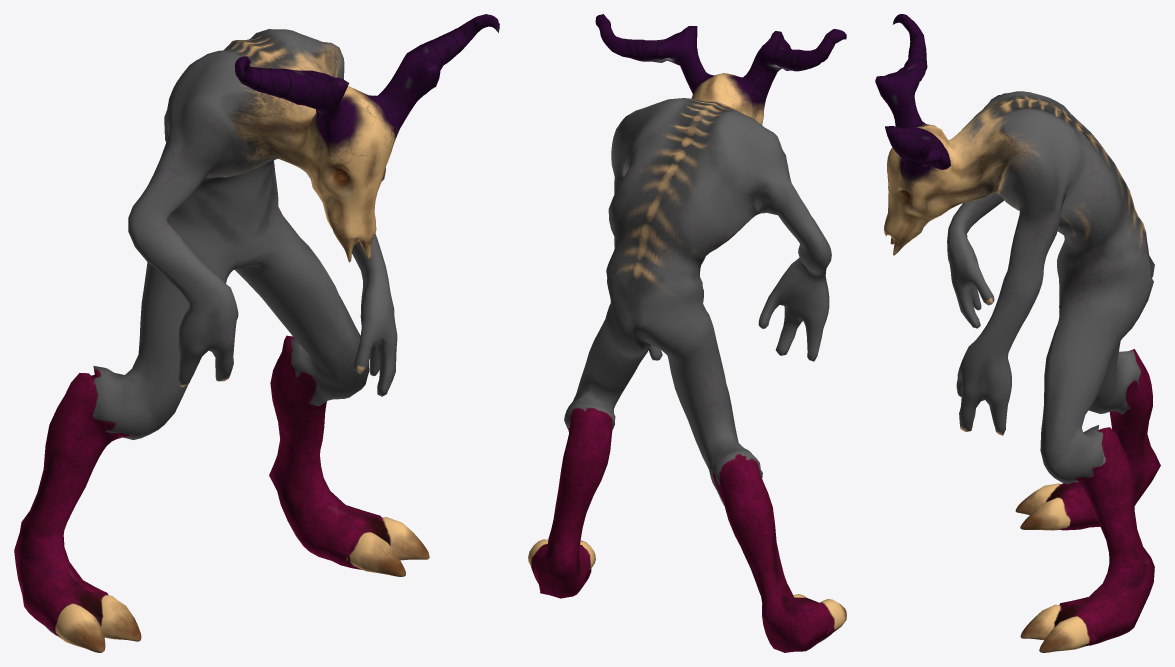
File: Demon.glb
The picture shows the model from 3 angles, left to right: view 1: azimuth 30°, elevation 25°; view 2: azimuth 150°, elevation 25°; view 3: azimuth 270°, elevation 25°; orthographic projection. The views are drawn at different scales.
Parts seen in each view (by area): view 1: Grunt_Pose_1; view 2: Grunt_Pose_1; view 3: Grunt_Pose_1.
Part boxes in pixels (x1=…): Grunt_Pose_1: x1=14, y1=14, x2=499, y2=652; Grunt_Pose_1: x1=528, y1=14, x2=846, y2=652; Grunt_Pose_1: x1=875, y1=14, x2=1160, y2=652.
Bounding box in the file's own units: 1.08 × 1.79 × 0.8696.
Materials: 1 (1 with a texture image).
